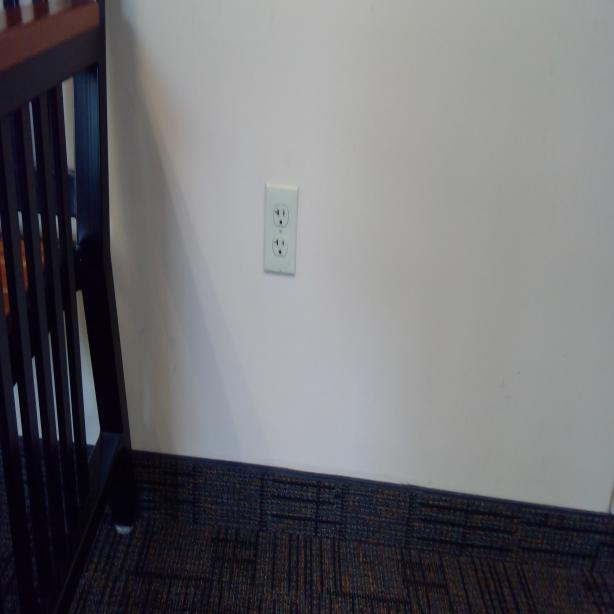typeb: (270, 229, 290, 260), (272, 202, 290, 231)
